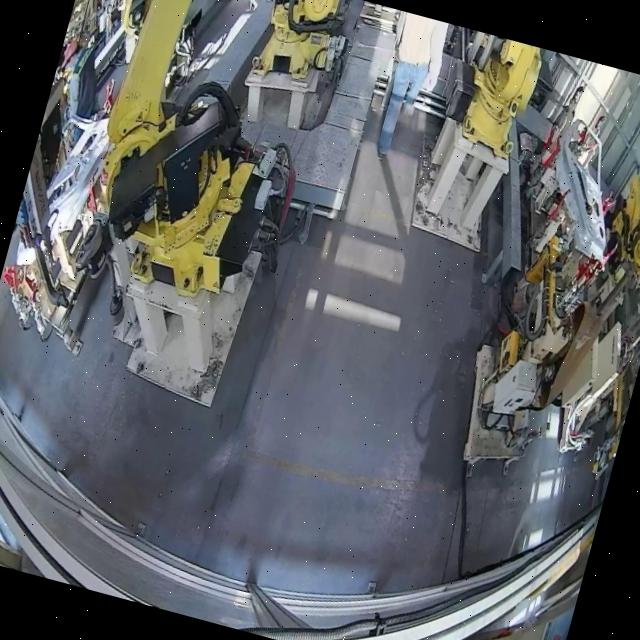Person: (361, 10, 453, 169)
